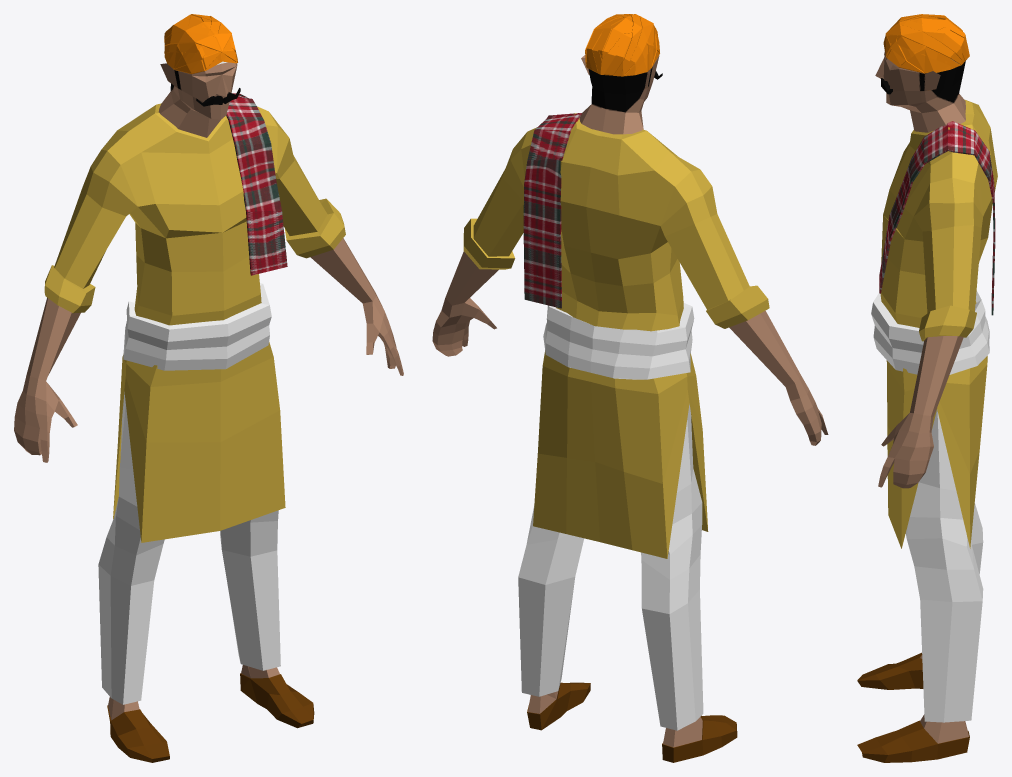
File: Dehati2.fbx
3 renders of one model, left to right at view 1: azimuth 30°, elevation 25°; view 2: azimuth 150°, elevation 25°; view 3: azimuth 270°, elevation 25°, orthographic.
Parts seen in each view (by area): view 1: male.001, male.002; view 2: male.001, male.002; view 3: male.001, male.002.
Part boxes in pixels (x1=…): male.001: x1=14, y1=14, x2=403, y2=762; male.002: x1=226, y1=93, x2=287, y2=275; male.001: x1=432, y1=14, x2=828, y2=762; male.002: x1=523, y1=113, x2=581, y2=308; male.001: x1=857, y1=14, x2=997, y2=762; male.002: x1=879, y1=121, x2=995, y2=315.
Bounding box in the file's own units: 196 × 348 × 63.37.
